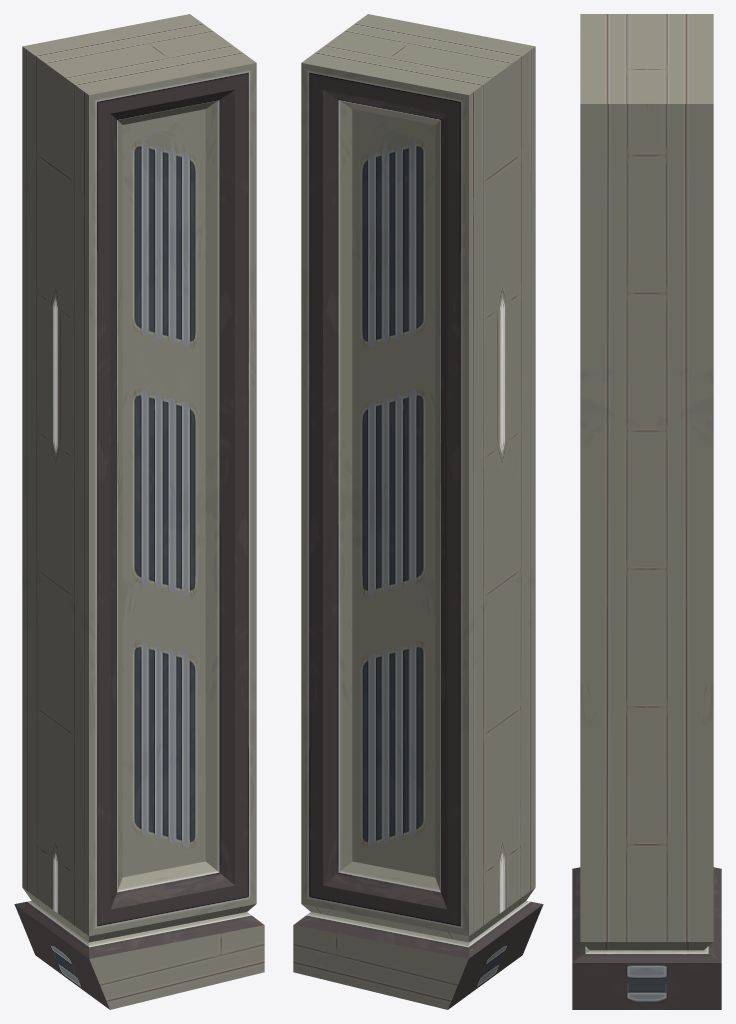
File: KF_SM_XBuilding017.fbx
3 views of the same model, side by side, from view 1: azimuth 30°, elevation 25°; view 2: azimuth 150°, elevation 25°; view 3: azimuth 270°, elevation 25° (orthographic).
Visible parts, largest first — view 1: KF_SM_XBuilding017; view 2: KF_SM_XBuilding017; view 3: KF_SM_XBuilding017.
Part boxes in pixels (box(x1,y1,x2,y2)): KF_SM_XBuilding017: box(14, 14, 264, 1009); KF_SM_XBuilding017: box(293, 14, 543, 1009); KF_SM_XBuilding017: box(572, 14, 721, 1009).
Bounding box in the file's own units: 1855 × 9258 × 1372.
